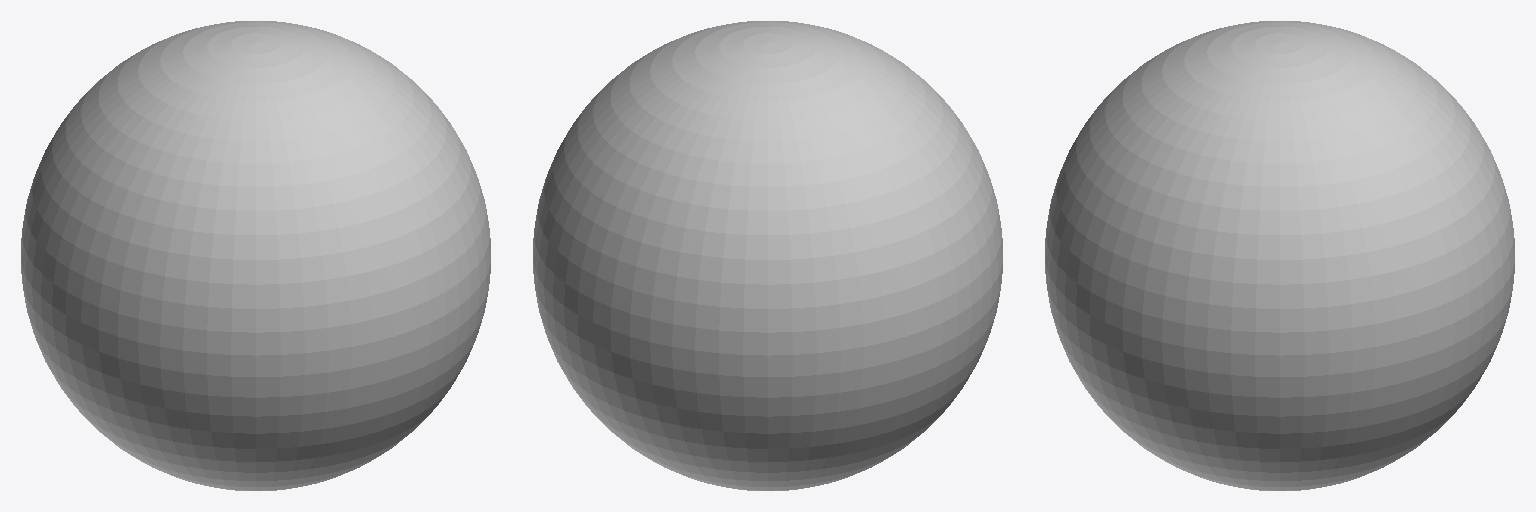
File: venus.obj
3 views of the same model, side by side, from view 1: azimuth 30°, elevation 25°; view 2: azimuth 150°, elevation 25°; view 3: azimuth 270°, elevation 25° (orthographic).
Visible parts, largest first — view 1: Esfera; view 2: Esfera; view 3: Esfera.
Boxes of the visible parts, x1=… form: Esfera: x1=21, y1=21, x2=490, y2=490; Esfera: x1=533, y1=21, x2=1002, y2=490; Esfera: x1=1045, y1=21, x2=1514, y2=490.
Bounding box in the file's own units: 4000 × 4000 × 4000.